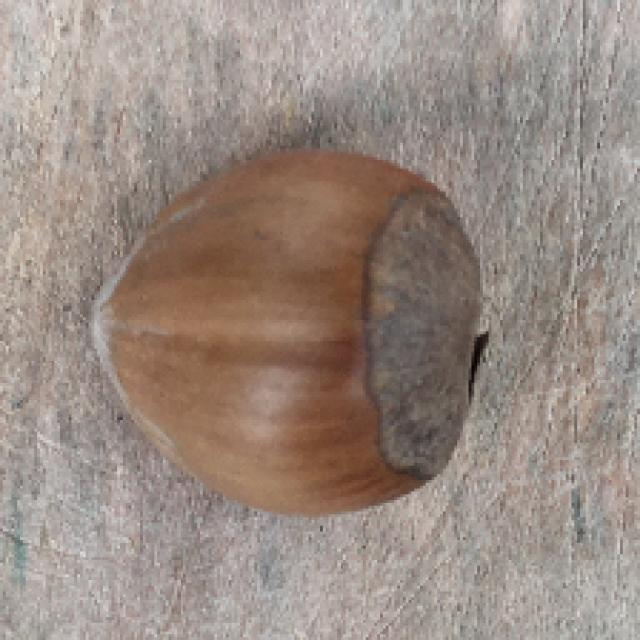damagedHazelnut: (84, 146, 498, 532)
